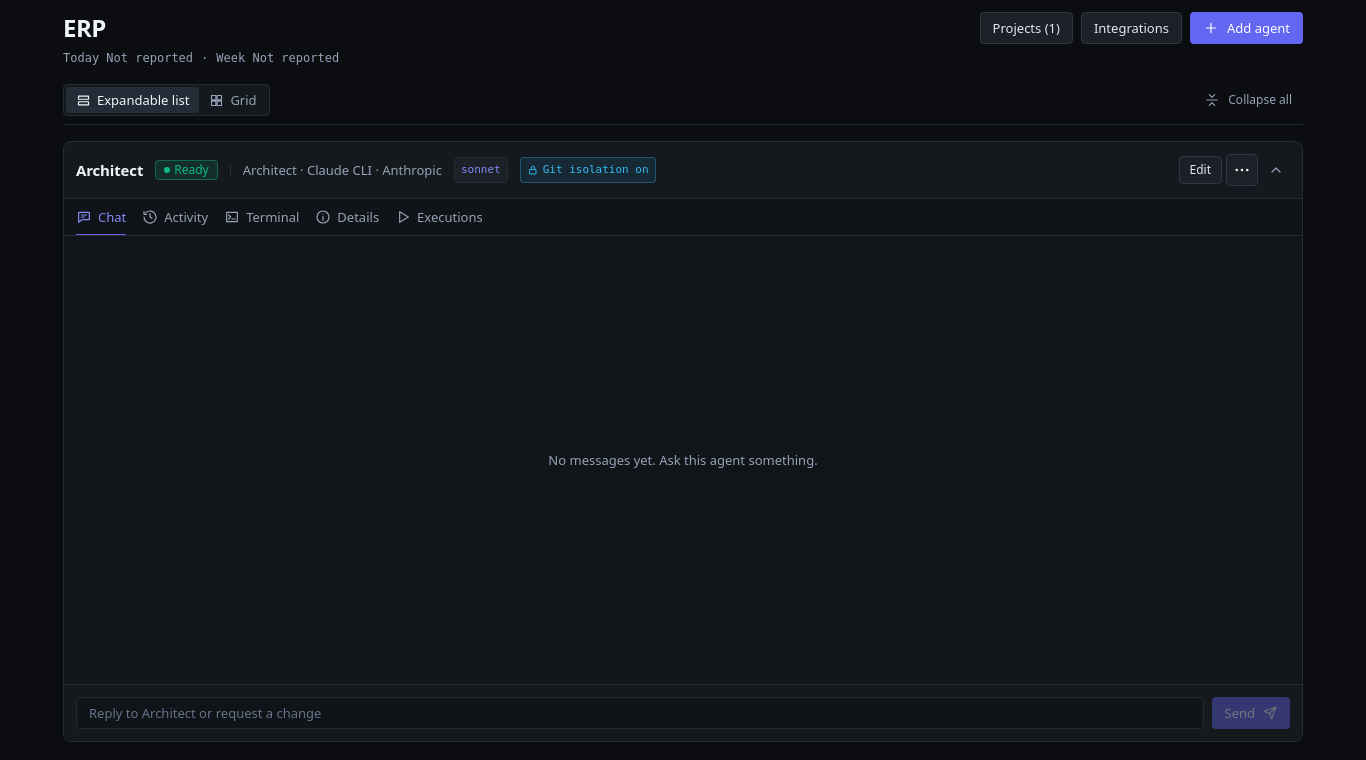
it: Task context preview › says so when the whole Harness context is used instead, and why
This screenshot has width=1366, height=760.
Type "???" into the text box named "Message Architect" at (640, 713), box [76,697,1204,729]
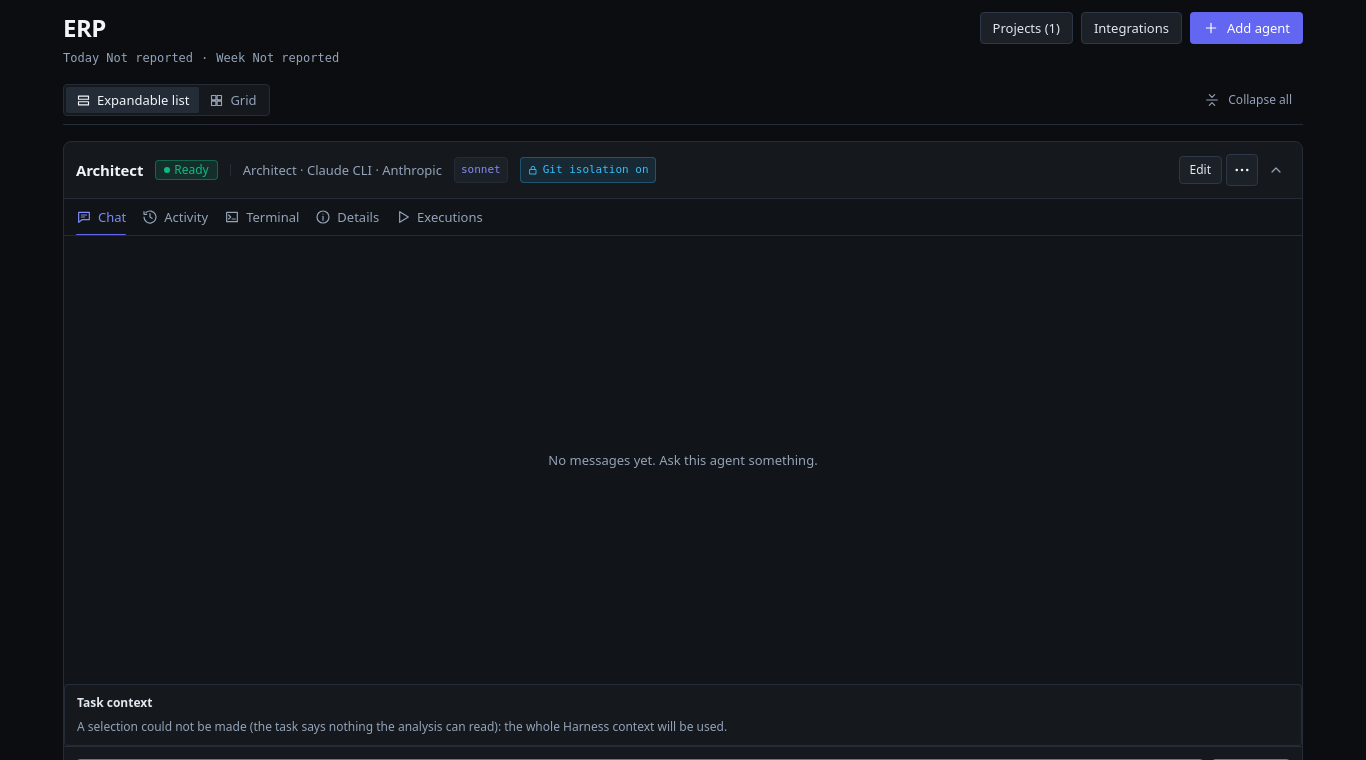
Expected: the element "Task context" shows "the whole Harness context will be used", [77,718,727,735]
Expected: the element "Task context" shows "the task says nothing the analysis can read", [77,718,727,735]
